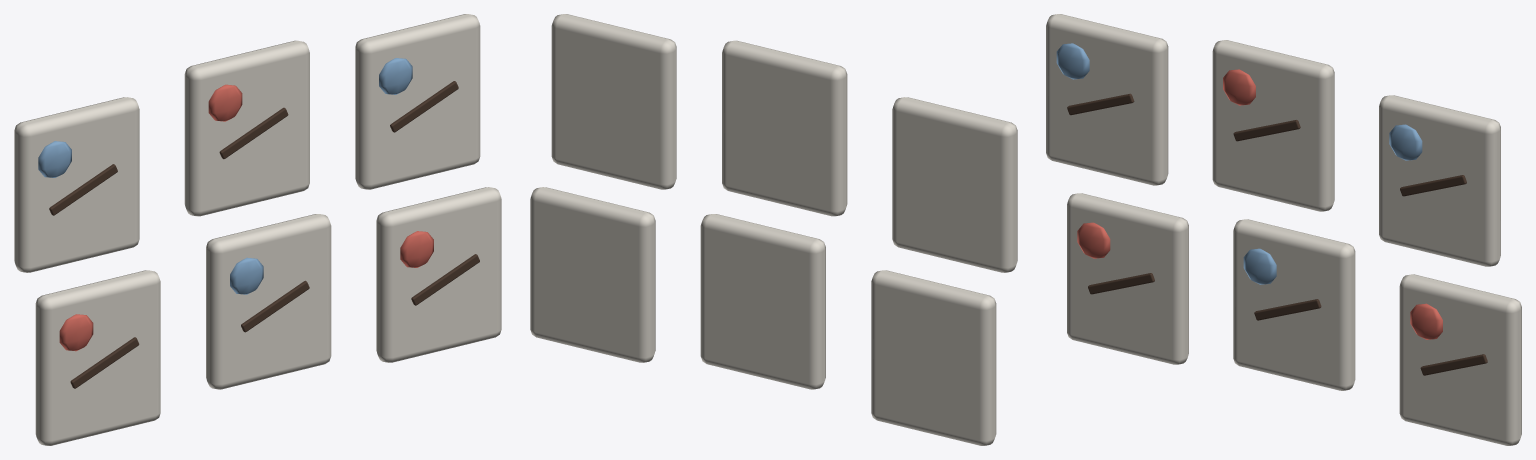
File: signed_card_frames.glb
3 renders of one model, left to right at view 1: azimuth 30°, elevation 25°; view 2: azimuth 150°, elevation 25°; view 3: azimuth 330°, elevation 25°, orthographic. The views are drawn at different scales.
Parts seen in each view (by area): view 1: signed_card_frames_mesh; view 2: signed_card_frames_mesh; view 3: signed_card_frames_mesh.
Part boxes in pixels (box(x1,y1,x2,y2)): signed_card_frames_mesh: box(14, 14, 501, 445); signed_card_frames_mesh: box(530, 14, 1017, 445); signed_card_frames_mesh: box(1046, 14, 1521, 445).
Size of the model in its own units: 0.68 by 0.46 by 0.0381.
